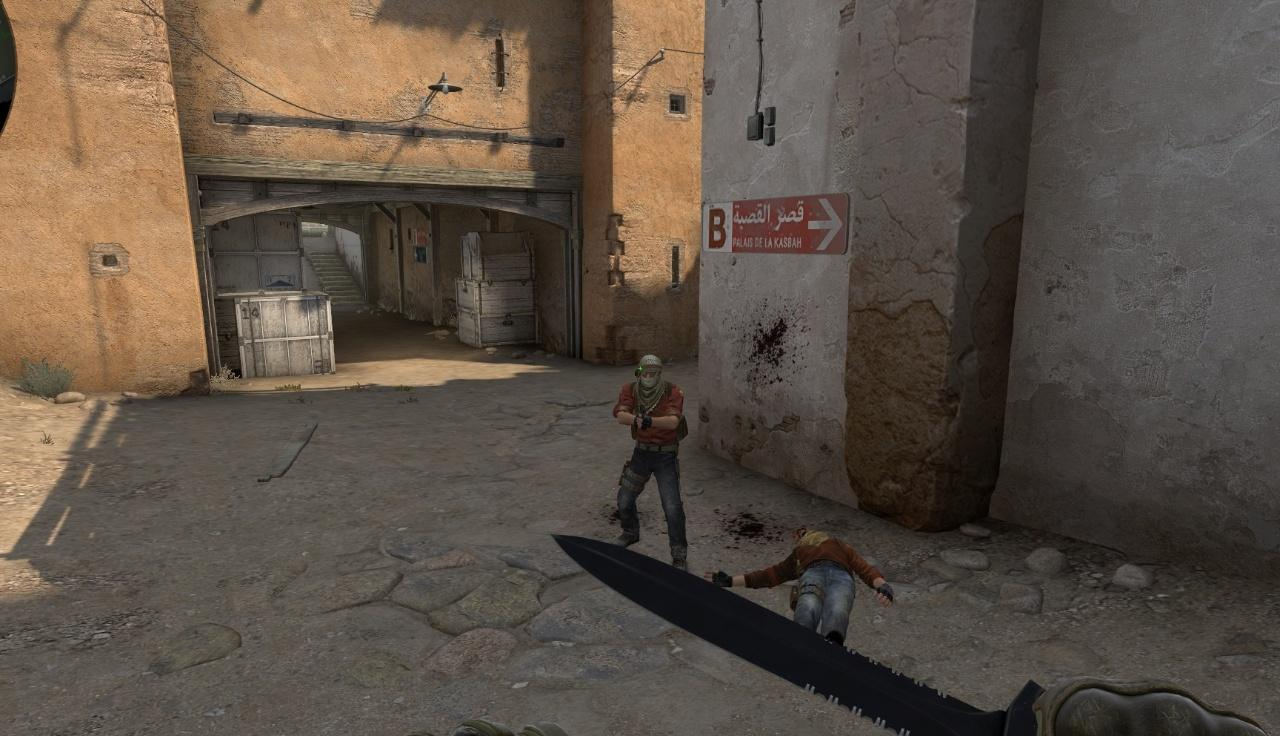tt: (613, 355, 688, 570)
tthead: (638, 355, 663, 393)
